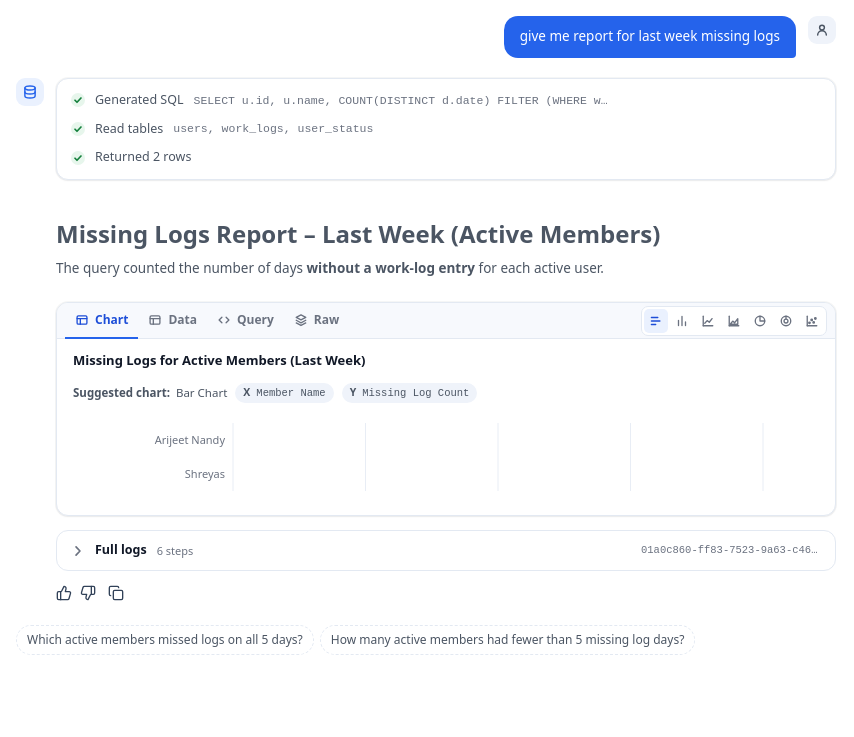
Test: a live NL2SQL answer, field by field › logs the rewritten question, the database and the trace id
Click the button "Full logs 6 steps 01a0c860-ff83-7523-9a63-c466e184016b" at (121, 550), box [57,531,835,570]
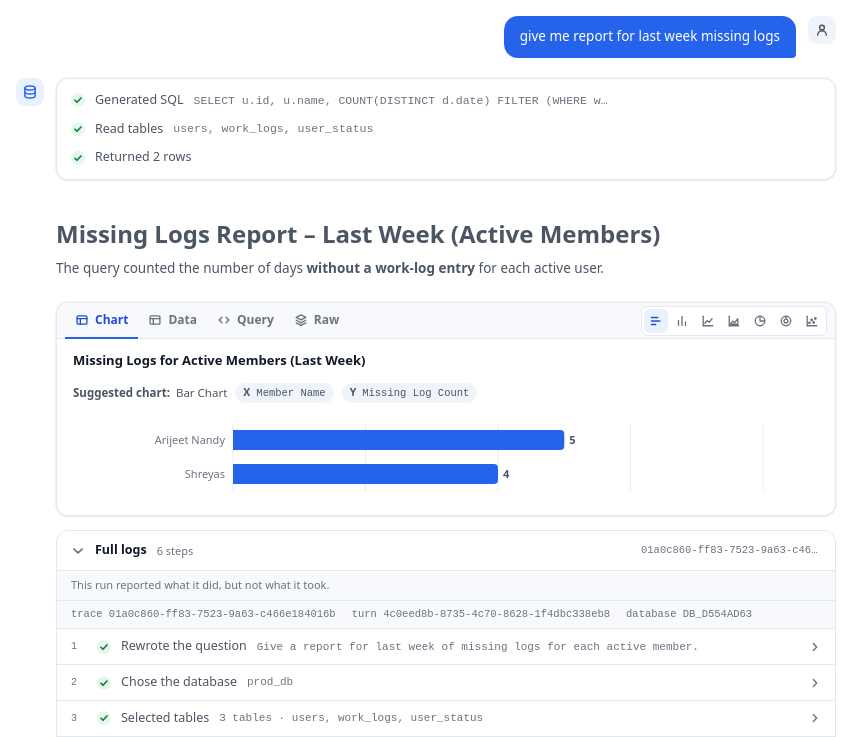
Result: the text "Rewrote the question" is shown at [121,637,247,656]
Result: the text "Chose the database" is shown at [121,673,237,692]
Result: the text "prod_db" is shown at [247,674,293,691]
